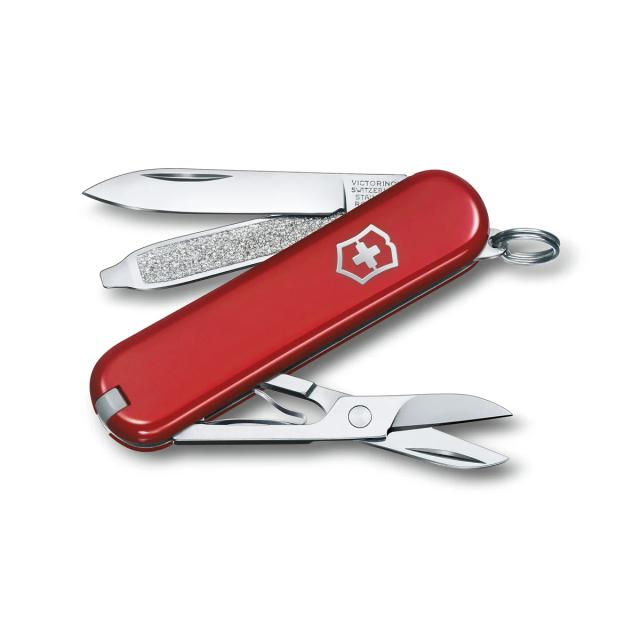knife victorinox: (90, 170, 489, 451)
